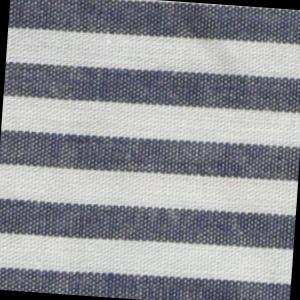Wrinkle: (168, 3, 254, 94)
